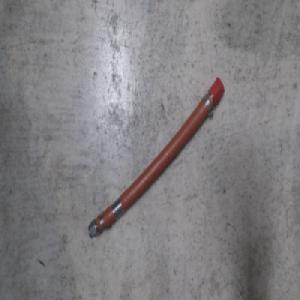Hose: (87, 79, 227, 243)
